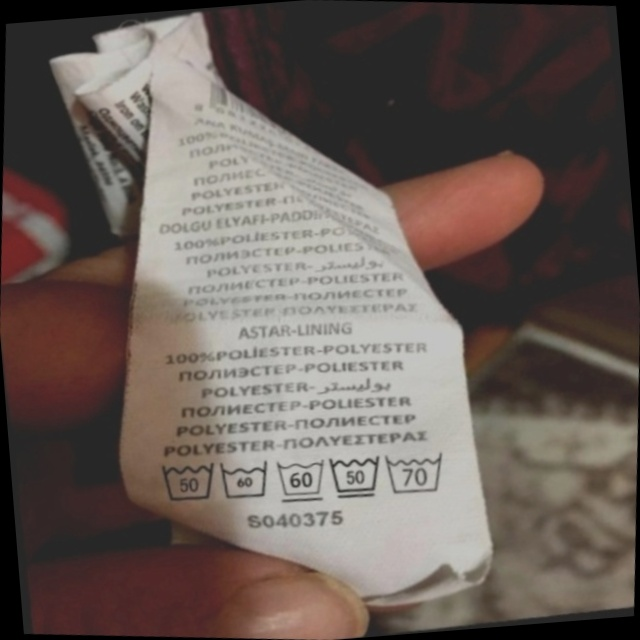50C: (149, 445, 227, 516), (320, 443, 393, 510)
60C: (268, 446, 337, 512), (212, 448, 281, 512)
70C: (379, 440, 458, 505)
